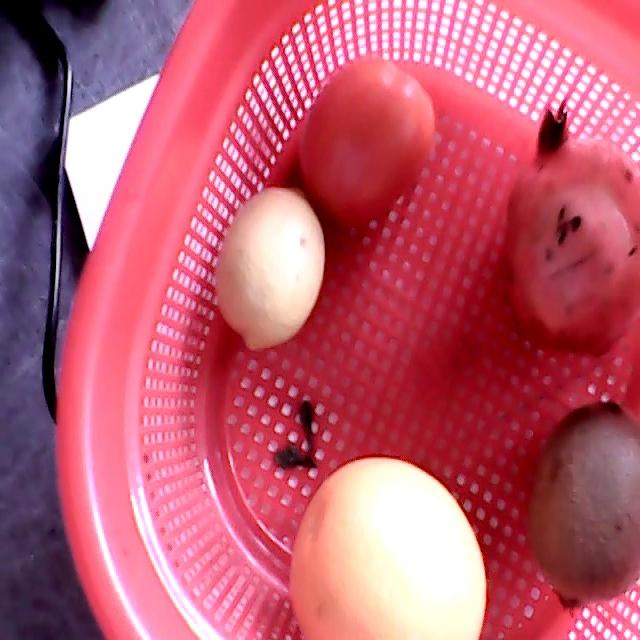kiwi: (524, 398, 639, 612)
lemon: (215, 186, 325, 351)
orange: (288, 455, 487, 639)
pomegranate: (496, 106, 639, 356)
tomato: (300, 61, 435, 231)
